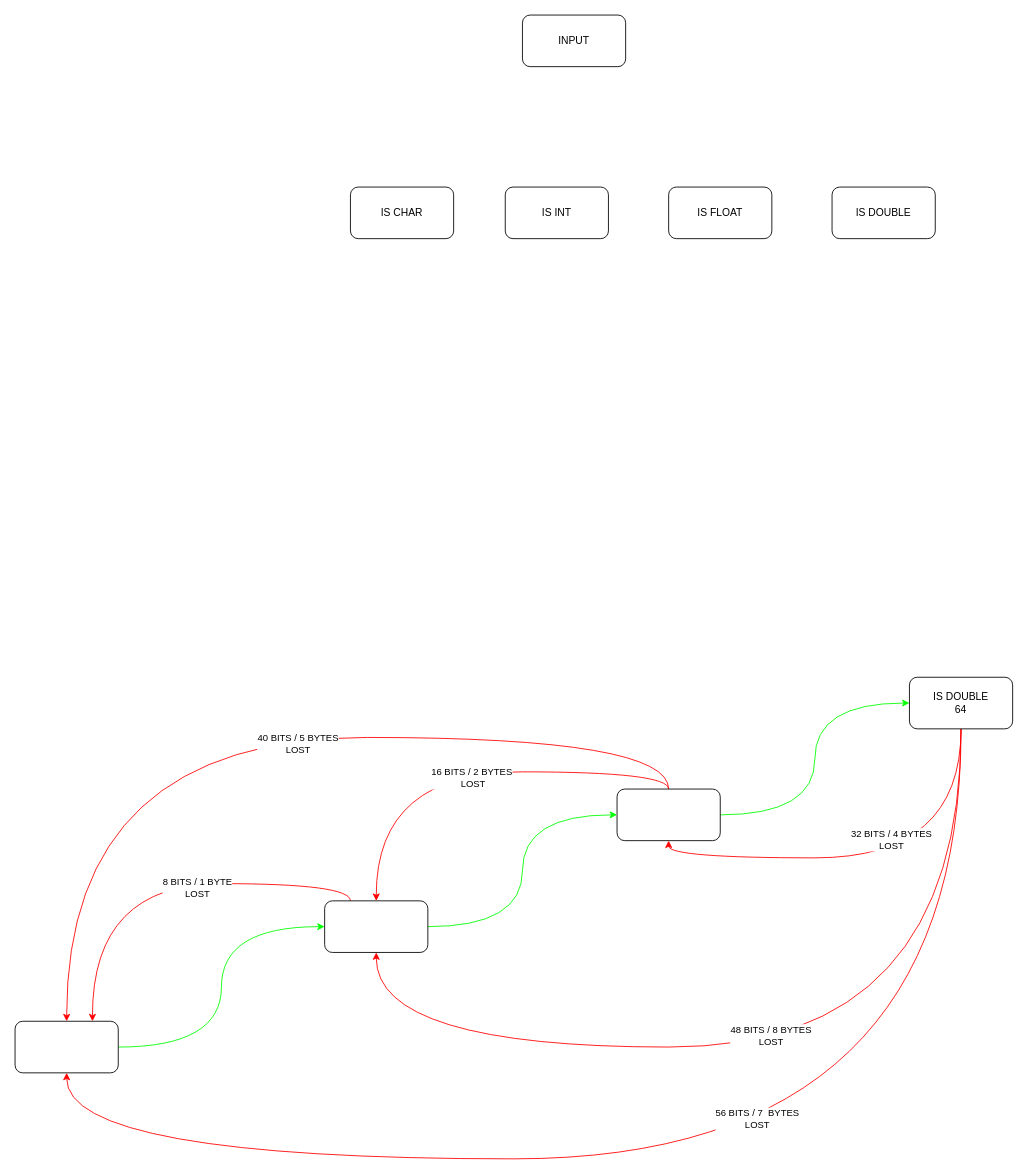
The diagram is 1028 pixels wide and 1174 high, and some of its shapes have lost their labels. The shapes that lost their labels are listed below. From the top down, each one's centre as x and y in pixels, then its label:
At (668,814): "IS FLOAT 32".
At (376,926): "IS INT 16".
At (66,1046): "IS CHAR 8".
